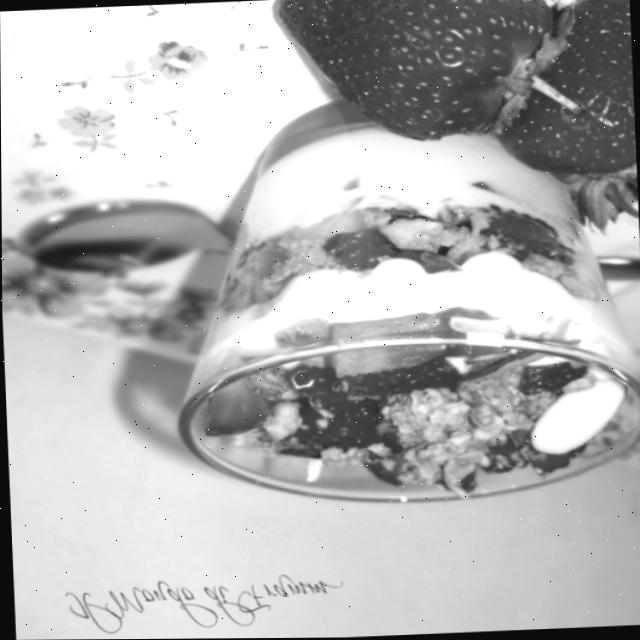蛋糕甜品: (149, 61, 640, 557)
